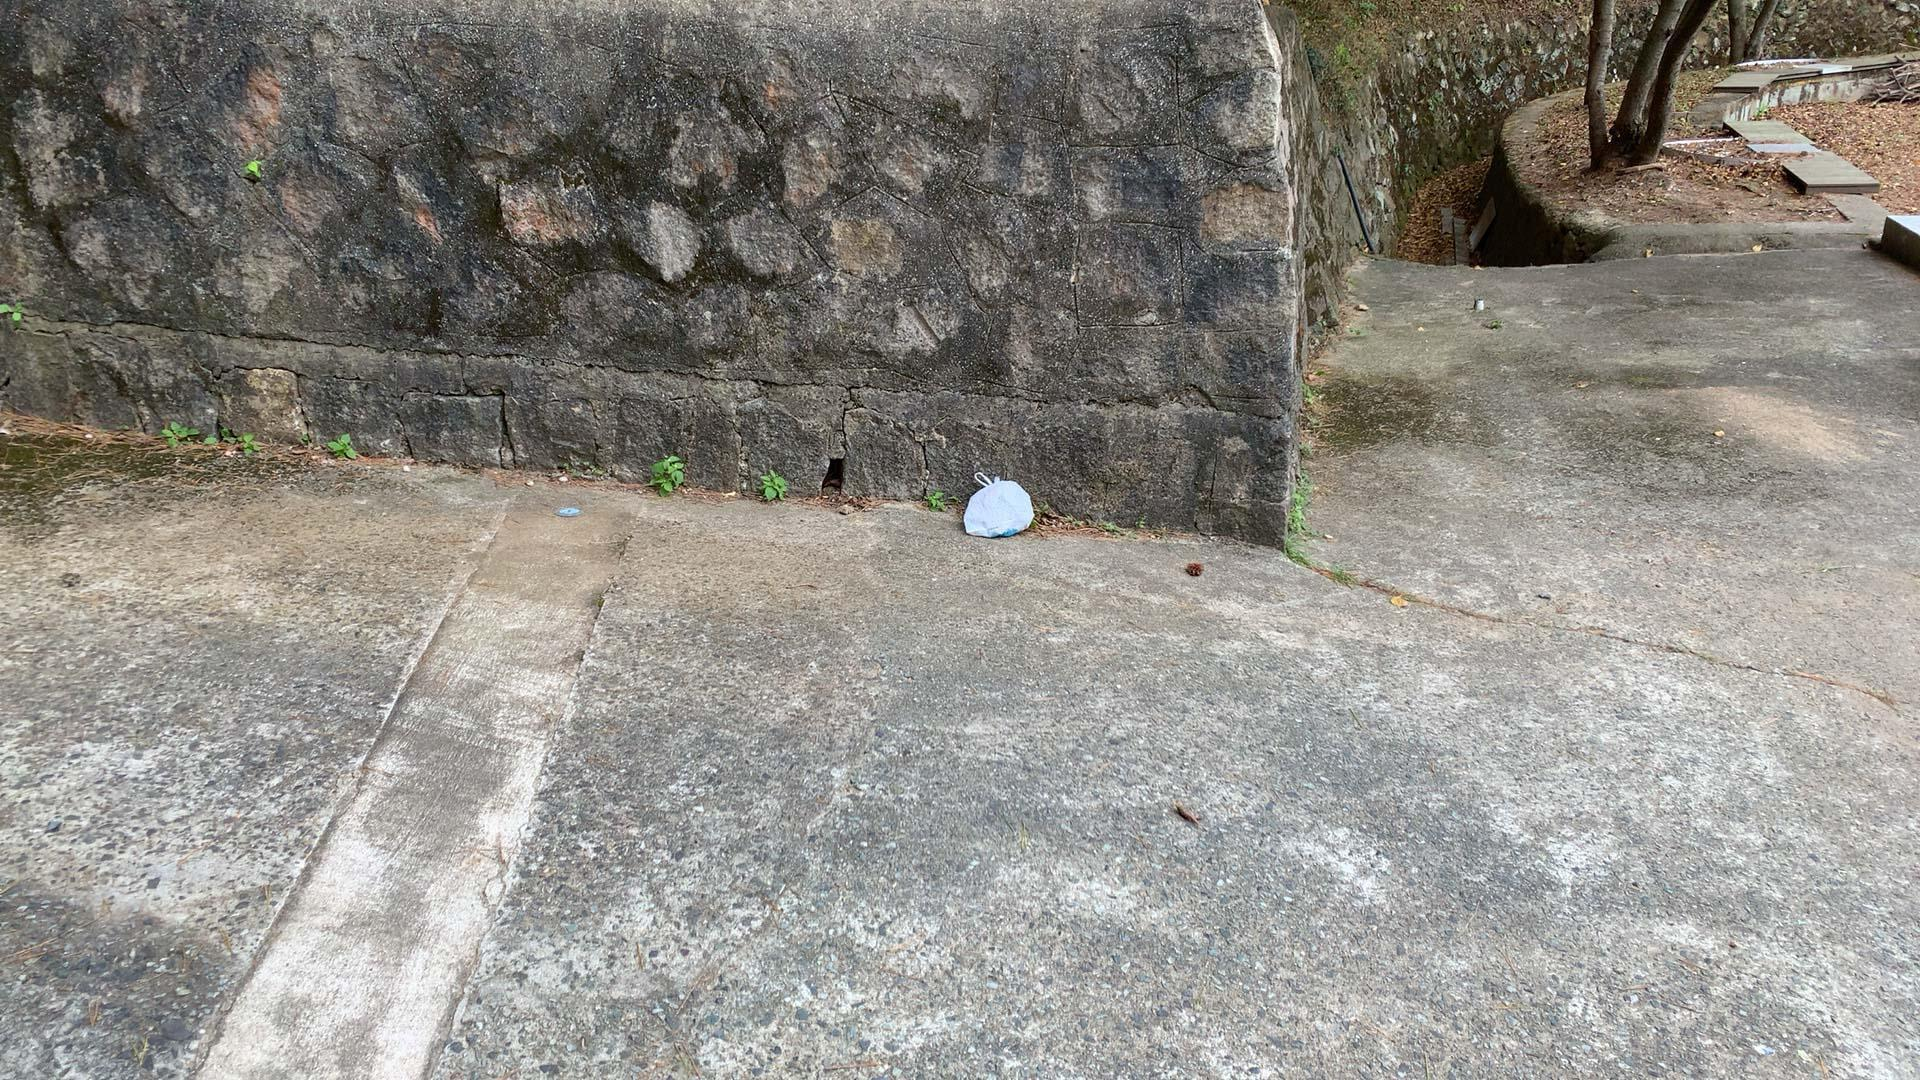white_bag: (947, 462, 1042, 551)
